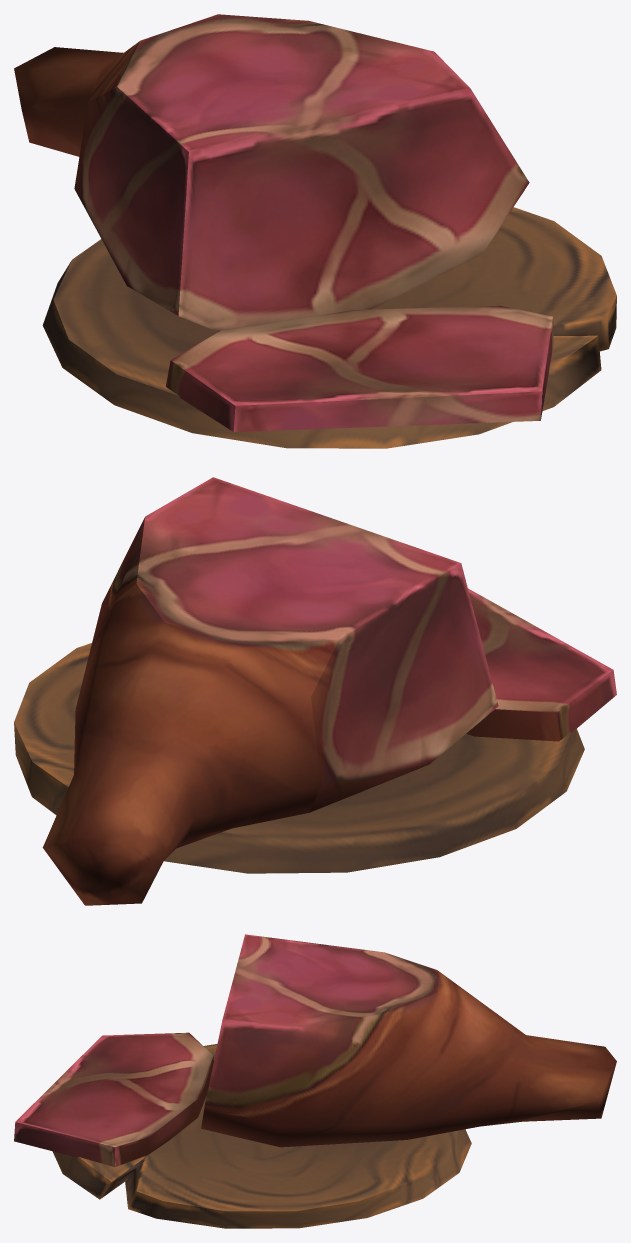
The model's file is smoked_ham_cut.fbx.
3 renders of one model, top to bottom at view 1: azimuth 30°, elevation 25°; view 2: azimuth 150°, elevation 25°; view 3: azimuth 270°, elevation 25°, orthographic. The views are drawn at different scales.
Parts seen in each view (by area): view 1: smoked_ham_cut; view 2: smoked_ham_cut; view 3: smoked_ham_cut.
Part boxes in pixels (bbox=[...]): smoked_ham_cut: bbox=[14, 14, 616, 448]; smoked_ham_cut: bbox=[14, 477, 616, 905]; smoked_ham_cut: bbox=[14, 934, 616, 1228].
Bounding box in the file's own units: 73.23 × 32.72 × 109.
